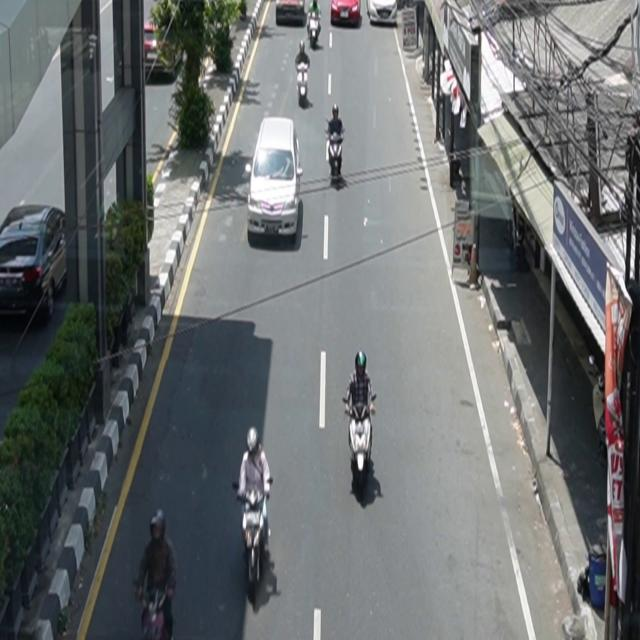car: (1, 202, 68, 323), (247, 117, 304, 242), (367, 1, 398, 26), (331, 1, 361, 26)
